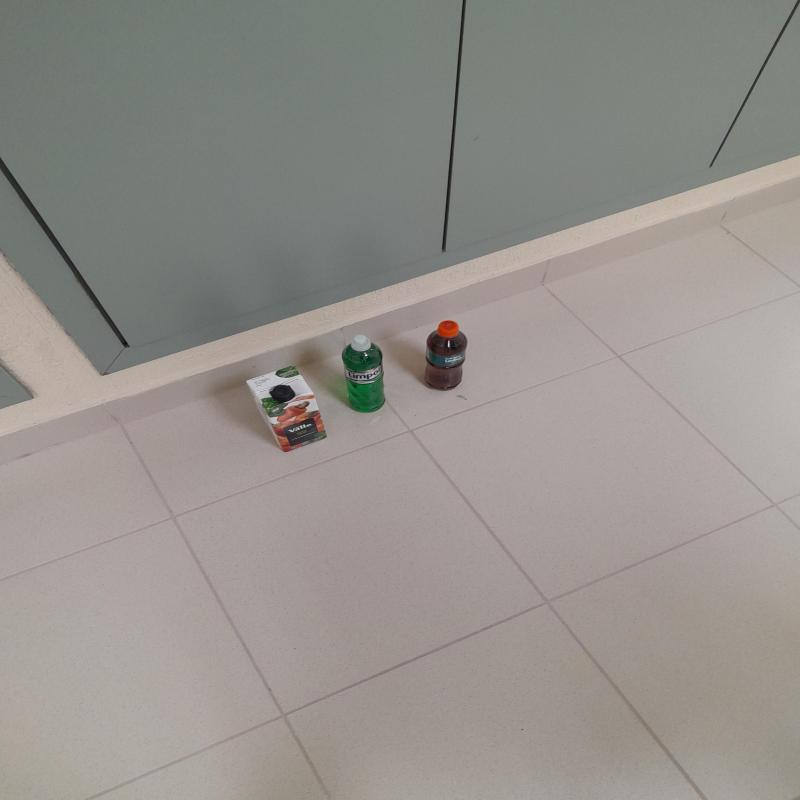Cleaner: (337, 336, 386, 417)
IceTea: (422, 321, 469, 391)
